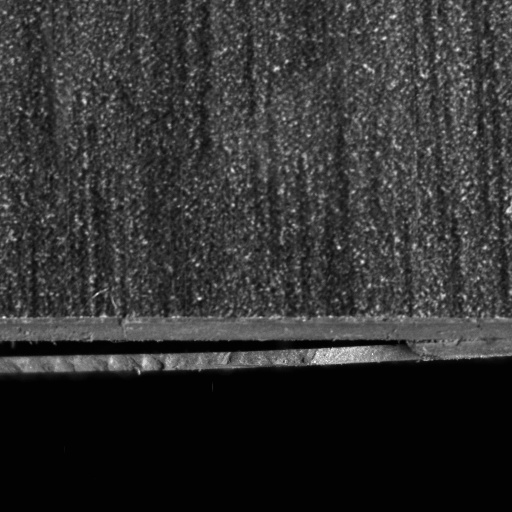kaijiao: (0, 309, 511, 377)
